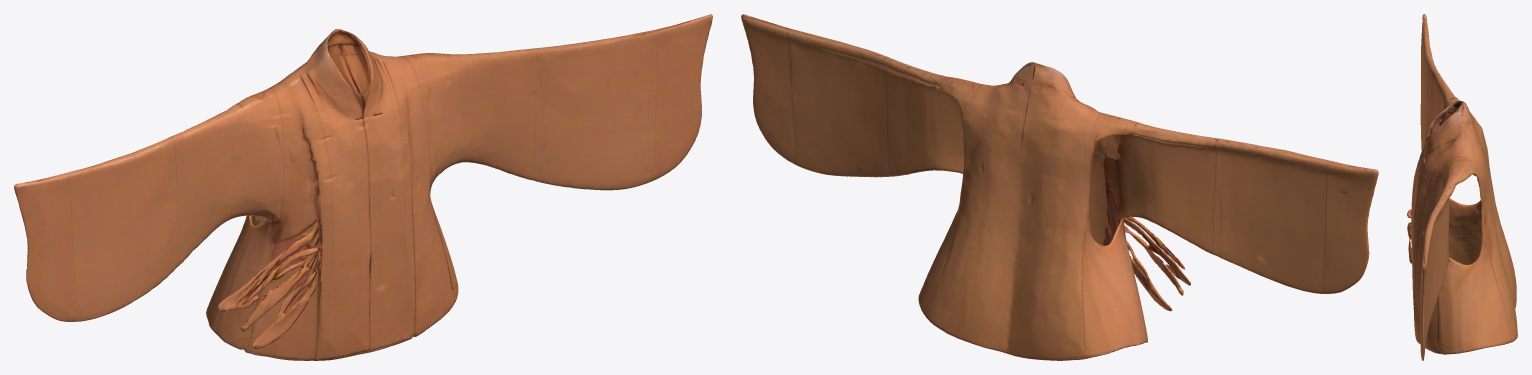
File: 八宝璎珞云肩纹织金妆花缎女上衣.glb
3 renders of one model, left to right at view 1: azimuth 30°, elevation 25°; view 2: azimuth 150°, elevation 25°; view 3: azimuth 270°, elevation 25°, orthographic. The views are drawn at different scales.
Bounding box in the file's own units: 2 × 0.8217 × 0.3682.
Materials: 1 (1 with a texture image).
